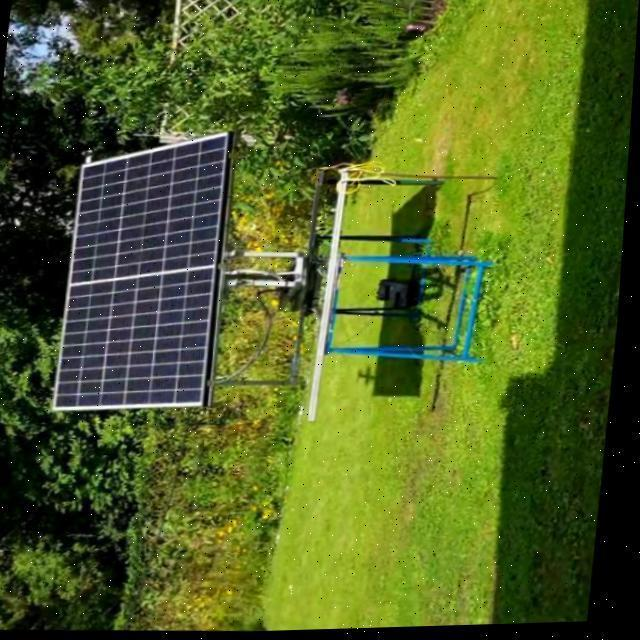Normal Solar Panel: (58, 125, 242, 412)
